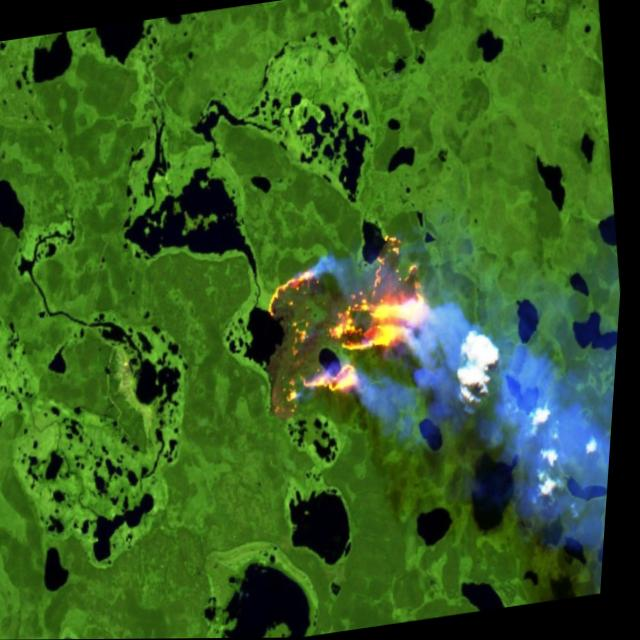fire: (252, 218, 461, 427)
